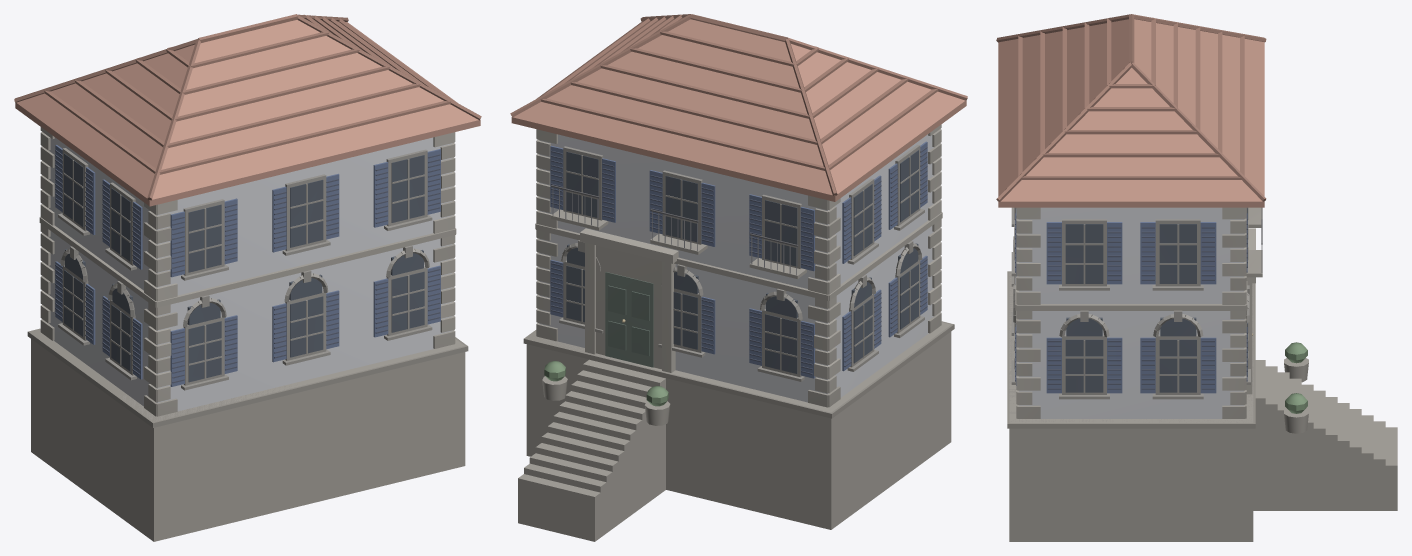
Rendered from house_3_4.gltf.
3 renders of one model, left to right at view 1: azimuth 30°, elevation 25°; view 2: azimuth 150°, elevation 25°; view 3: azimuth 270°, elevation 25°, orthographic. The views are drawn at different scales.
Visible parts, largest first — view 1: Body; view 2: Body; view 3: Body.
Part boxes in pixels (x1,y1,x2,y2): Body: [14, 14, 481, 541]; Body: [510, 14, 967, 541]; Body: [996, 14, 1397, 541].
Bounding box in the file's own units: 10.21 × 12.62 × 10.7.
